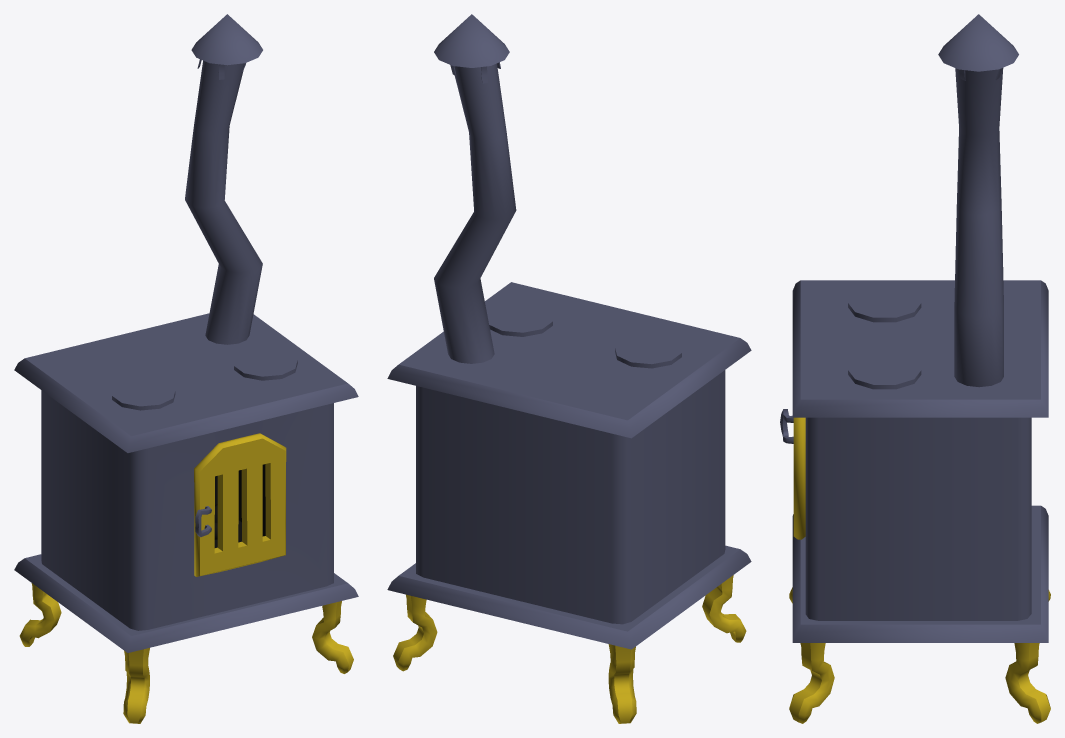
The model's file is OldHeater.fbx.
3 views of the same model, side by side, from view 1: azimuth 30°, elevation 25°; view 2: azimuth 150°, elevation 25°; view 3: azimuth 270°, elevation 25° (orthographic). The views are drawn at different scales.
Visible parts, largest first — view 1: Heater; view 2: Heater; view 3: Heater.
Boxes of the visible parts, box(x1,y1,x2,y2) form: Heater: box(14, 14, 358, 723); Heater: box(387, 14, 751, 723); Heater: box(780, 14, 1050, 723).
Bounding box in the file's own units: 166 × 418 × 150.
